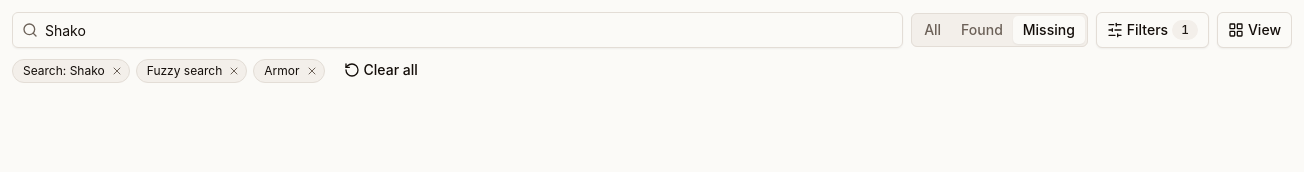
Test case: When AdvancedSearch toolbar is rendered › If something is active and user clicks Clear all › Then resets filters and sorting in the store and hides the button
Click the button "Clear all": click(381, 70) [332,56,429,84]
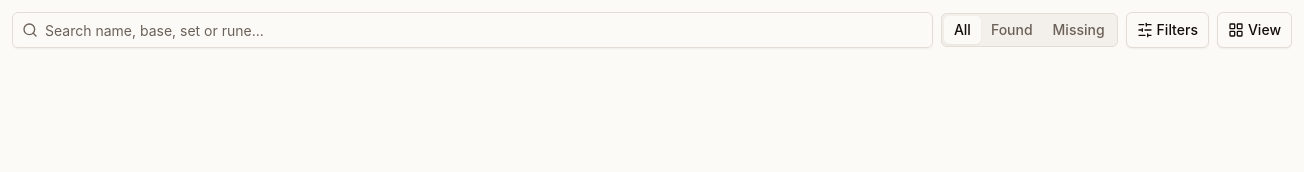
expect the field labelled "Search" is empty: met, box [12,12,933,48]
expect the button "Clear all" is gone: met
